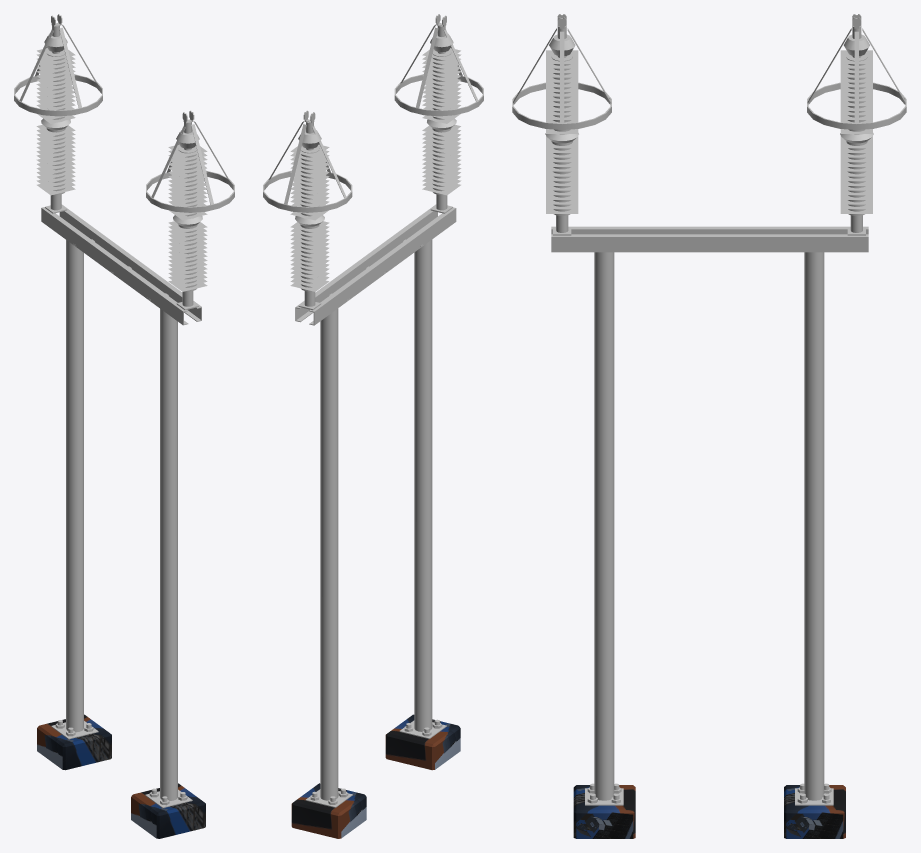
Rendered from dual_rods_large.FBX.
The picture shows the model from 3 angles, left to right: view 1: azimuth 30°, elevation 25°; view 2: azimuth 150°, elevation 25°; view 3: azimuth 270°, elevation 25°; orthographic projection. The views are drawn at different scales.
Visible parts, largest first — view 1: dual_rods_large_LOD0; view 2: dual_rods_large_LOD0; view 3: dual_rods_large_LOD0.
Boxes of the visible parts, x1,y1,x2,y2 form: dual_rods_large_LOD0: (14, 14, 234, 838); dual_rods_large_LOD0: (263, 14, 483, 838); dual_rods_large_LOD0: (512, 14, 906, 838).
Size of what is drawn, in the model's own units: 77.72 by 686 by 303.
